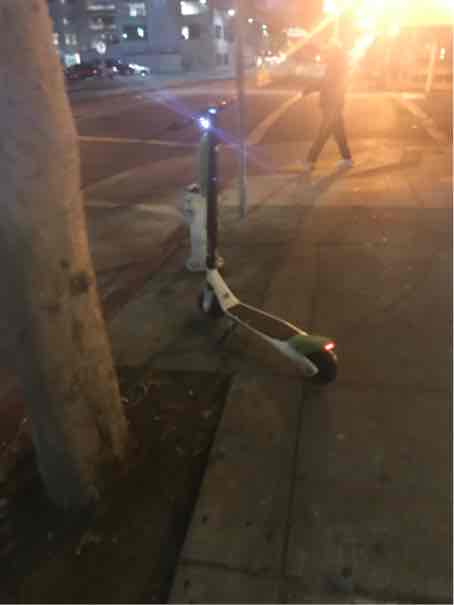scooter: (159, 90, 345, 391)
